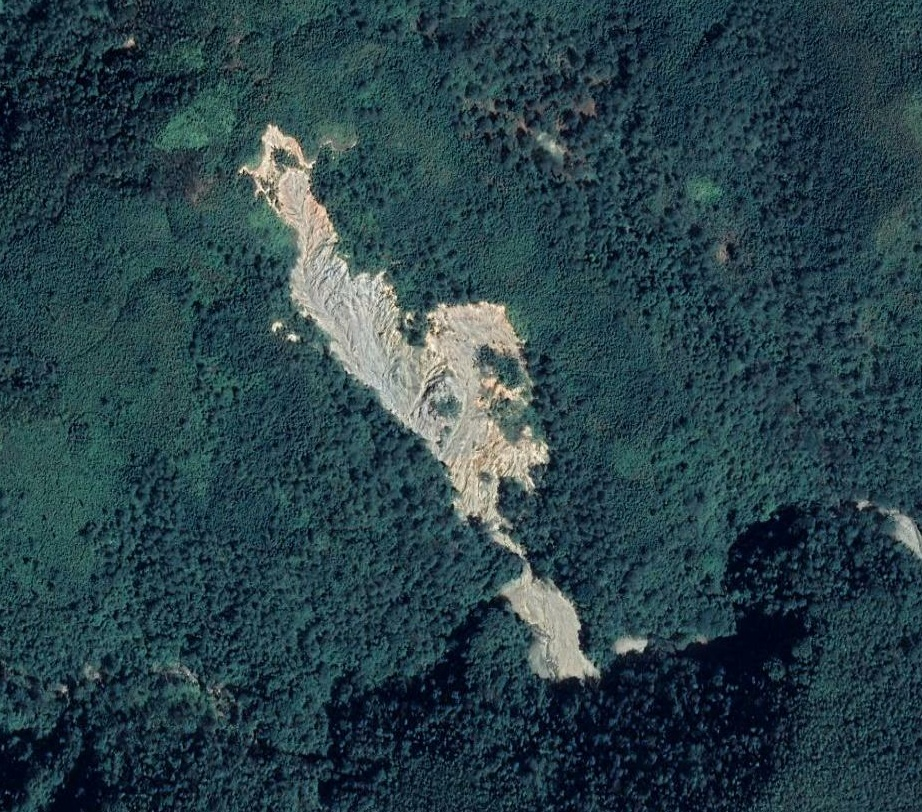slope: (236, 123, 567, 556), (489, 562, 603, 685)
